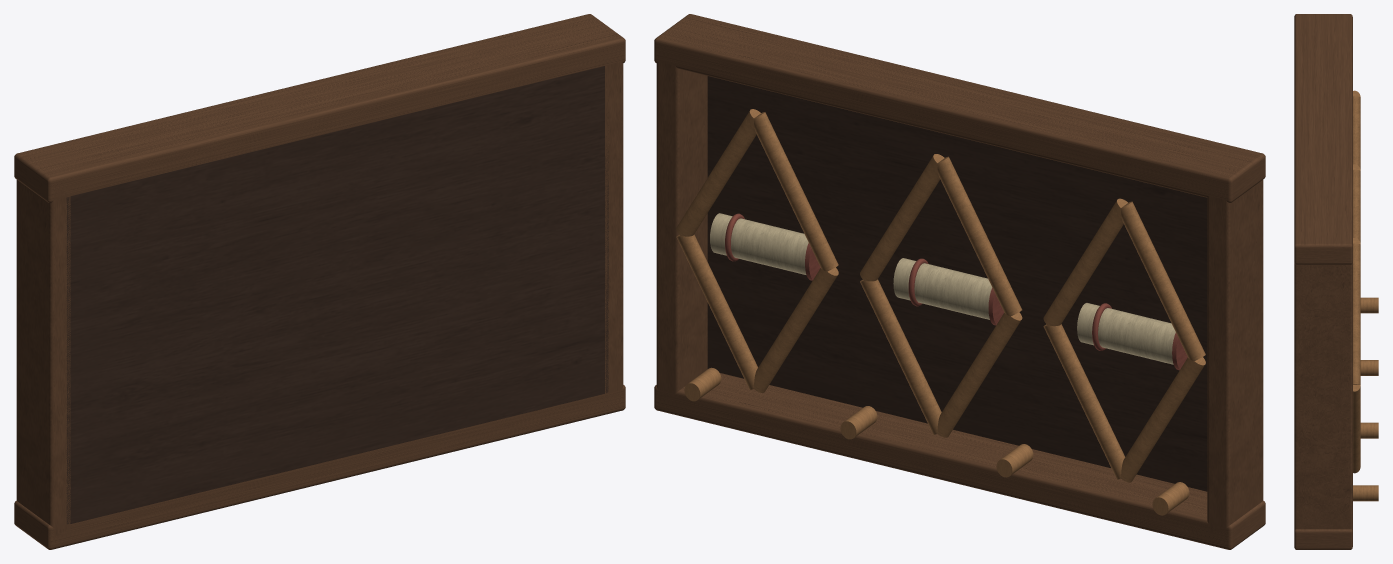
File: scroll_rack.glb
The picture shows the model from 3 angles, left to right: view 1: azimuth 30°, elevation 25°; view 2: azimuth 150°, elevation 25°; view 3: azimuth 270°, elevation 25°; orthographic projection. The views are drawn at different scales.
Parts seen in each view (by area): view 1: scroll_rack; view 2: scroll_rack; view 3: scroll_rack.
Boxes of the visible parts, x1=… form: scroll_rack: x1=14, y1=14, x2=625, y2=549; scroll_rack: x1=654, y1=14, x2=1265, y2=549; scroll_rack: x1=1294, y1=14, x2=1378, y2=549.
Bounding box in the file's own units: 2.6 × 1.6 × 0.4.
1 material, 1 textured.
